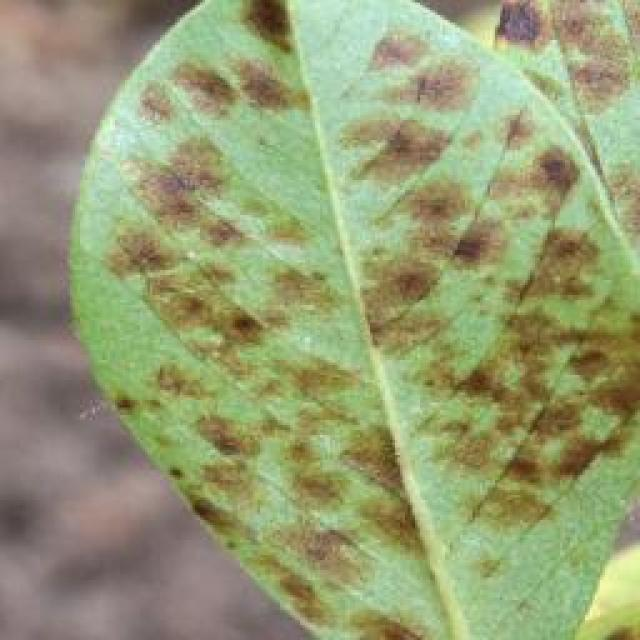Whitefly: (101, 0, 640, 615)
